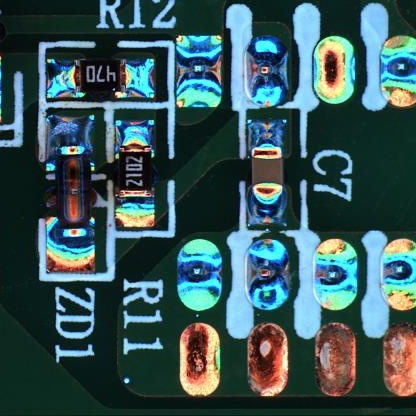spot: (175, 34, 223, 108), (311, 237, 358, 311), (246, 320, 290, 398), (309, 33, 357, 104), (177, 236, 223, 310), (178, 321, 222, 398), (314, 322, 357, 398), (244, 34, 289, 106), (245, 239, 291, 309), (379, 236, 416, 312), (378, 34, 416, 105), (382, 321, 416, 398)
